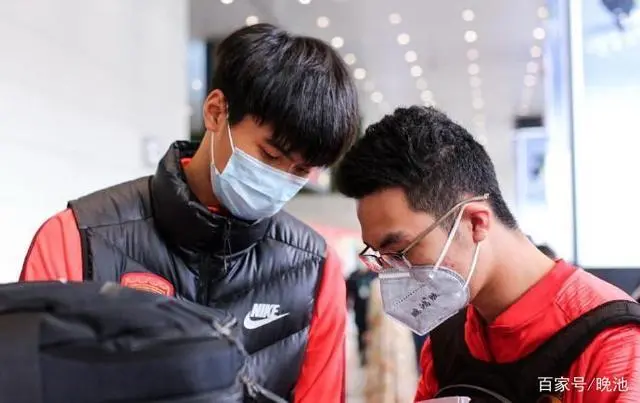withmask: (346, 110, 516, 342), (193, 23, 359, 222)
